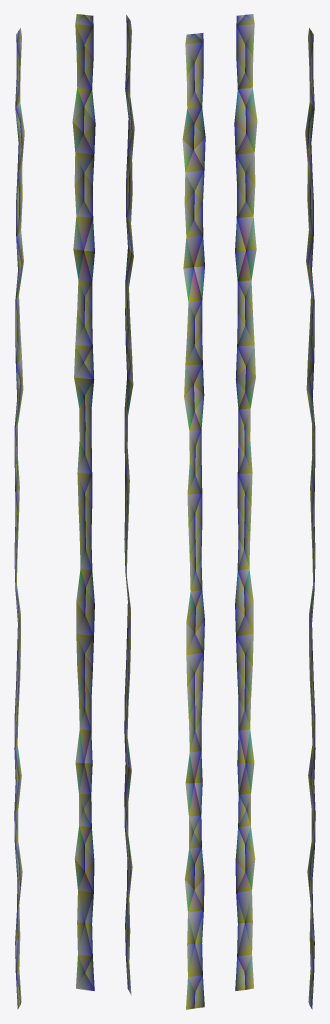
The model's file is Side.fbx.
The picture shows the model from 3 angles, left to right: view 1: azimuth 30°, elevation 25°; view 2: azimuth 150°, elevation 25°; view 3: azimuth 330°, elevation 25°; orthographic projection.
Visible parts, largest first — view 1: Side; view 2: Side; view 3: Side.
Boxes of the visible parts, x1,y1,x2,y2 form: Side: (14,14,95,1009); Side: (124,15,205,1009); Side: (234,14,315,1009).
Size of the model in its own units: 1.6 by 19.34 by 0.3027.
